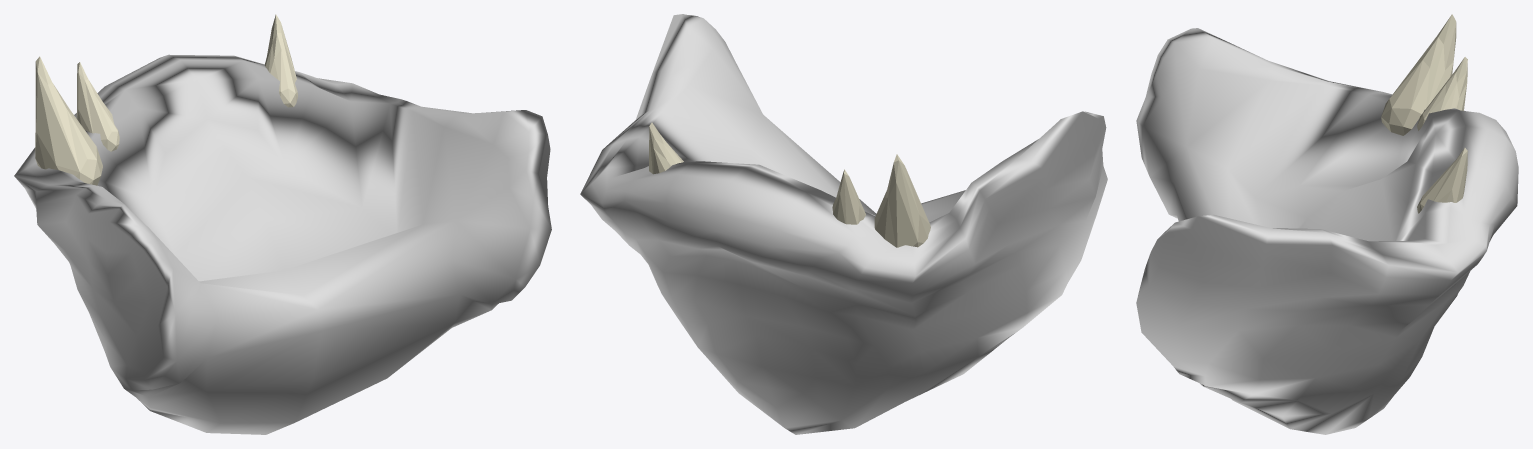
Rendered from OrcJawFat4.fbx.
3 views of the same model, side by side, from view 1: azimuth 30°, elevation 25°; view 2: azimuth 150°, elevation 25°; view 3: azimuth 270°, elevation 25° (orthographic). The views are drawn at different scales.
Visible parts, largest first — view 1: Jaw2, teeth, teeth3; view 2: Jaw2, teeth, teeth3; view 3: Jaw2, teeth, teeth3.
Part boxes in pixels (x1=…): Jaw2: x1=14, y1=54, x2=551, y2=434; teeth: x1=35, y1=56, x2=102, y2=185; teeth3: x1=76, y1=14, x2=297, y2=151; Jaw2: x1=580, y1=14, x2=1107, y2=434; teeth: x1=874, y1=154, x2=930, y2=247; teeth3: x1=649, y1=122, x2=865, y2=224; Jaw2: x1=1136, y1=28, x2=1518, y2=434; teeth: x1=1381, y1=14, x2=1456, y2=135; teeth3: x1=1417, y1=57, x2=1467, y2=213.
Size of the model in its own units: 0.1627 by 0.1289 by 0.1304.
